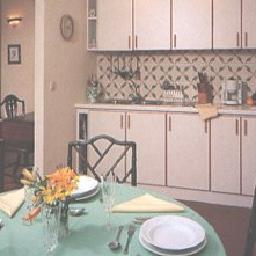Lavaplatos: (111, 84, 162, 110)
